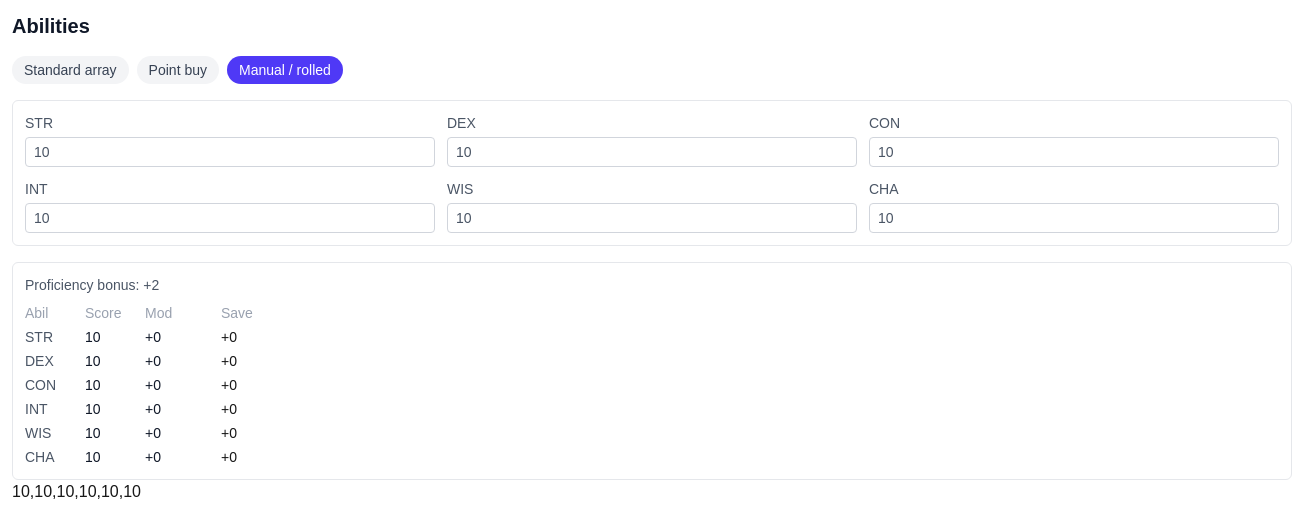
Test: AbilitiesStep — ability score generation › manual mode: editing a score updates the draft and the previewed modifier
# Manual is the default mode.
Replace the text in the number field labelled "STR" with "16" at (230, 152), box [25,137,435,167]
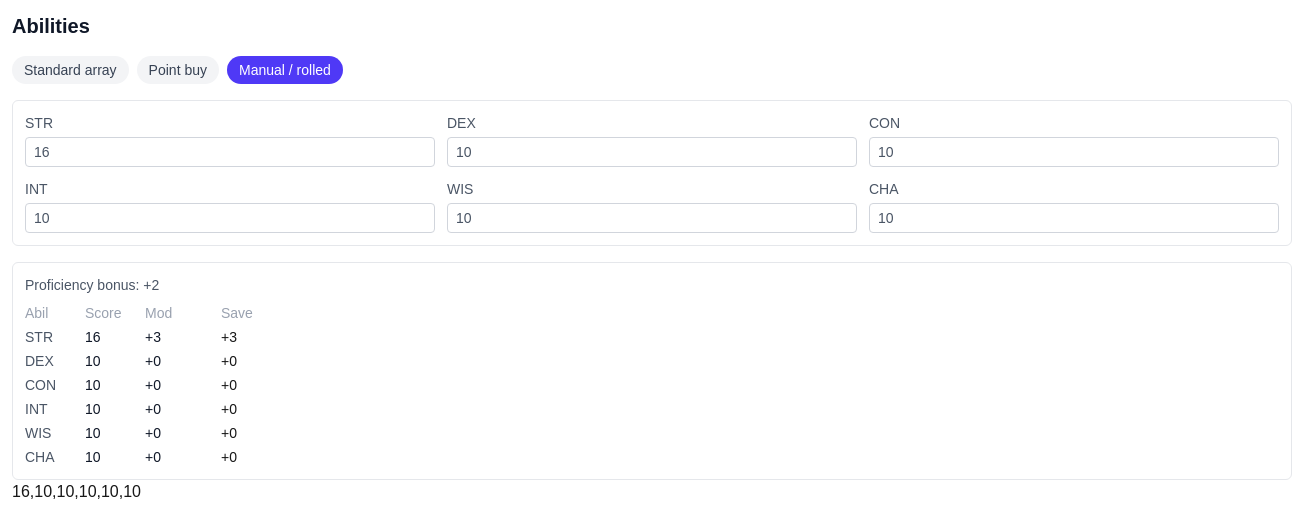
Expected: the text with test id "mod-strength" reads "+3", [145,329,161,345]
